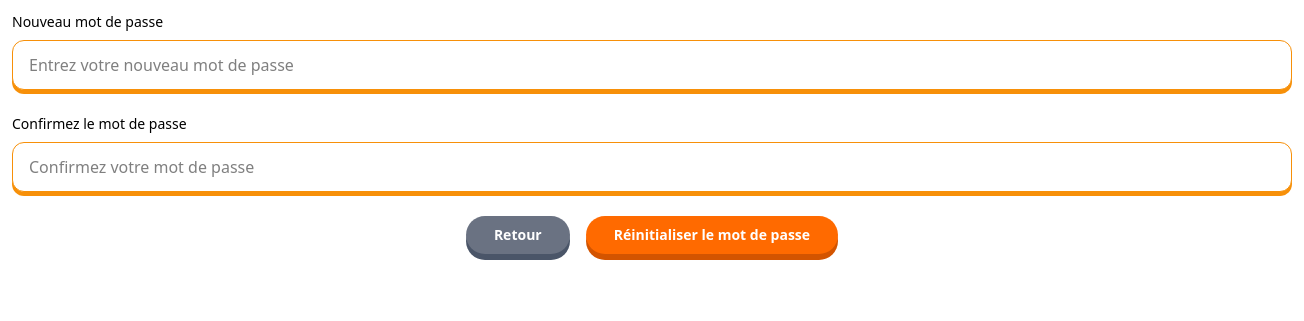
Scenario: ResetPasswordForm.vue › devrait afficher une erreur si les mots de passe ne correspondent pas
// Remplir les champs de mot de passe avec des valeurs différentes
Type "password123" into the password field with id "newPassword" at x=652, y=65, box [12,40,1292,90]
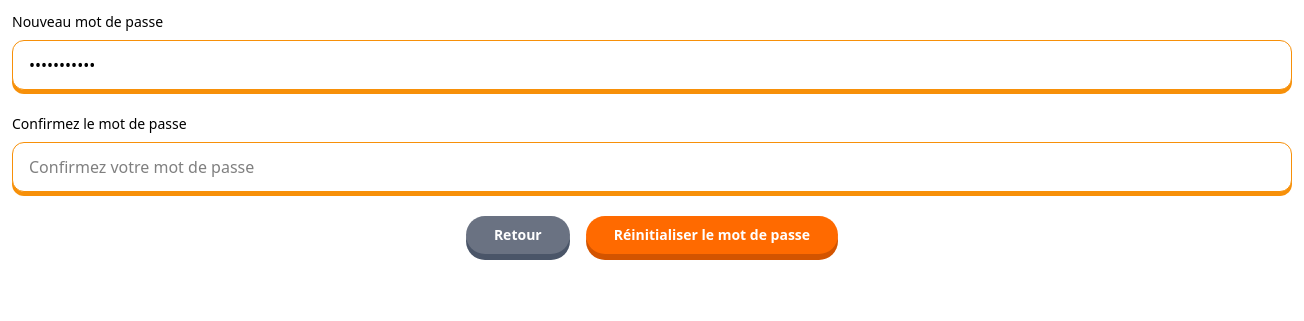
Type "password124" into the password field with id "confirmPassword" at x=652, y=167, box [12,142,1292,192]
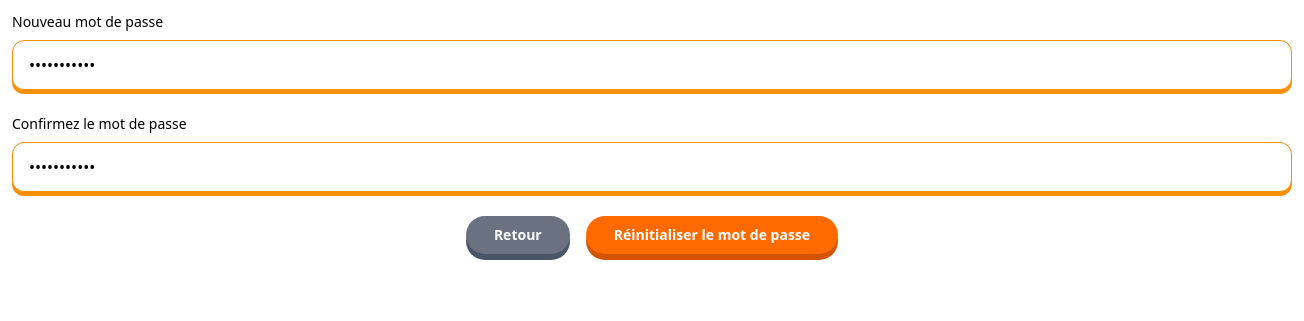
// Soumettre le formulaire
Submit the form
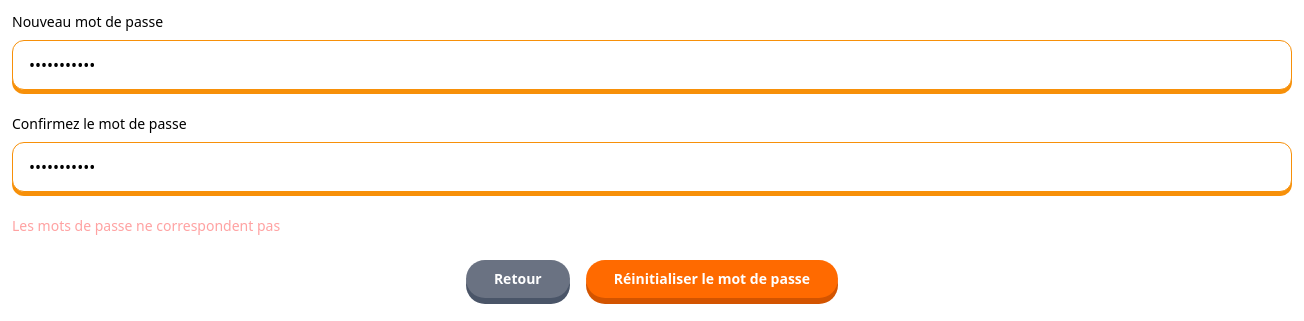
Check: the form shows "Les mots de passe ne correspondent pas", box [12,216,280,235]
